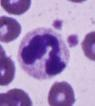N: (17, 28, 70, 79)
